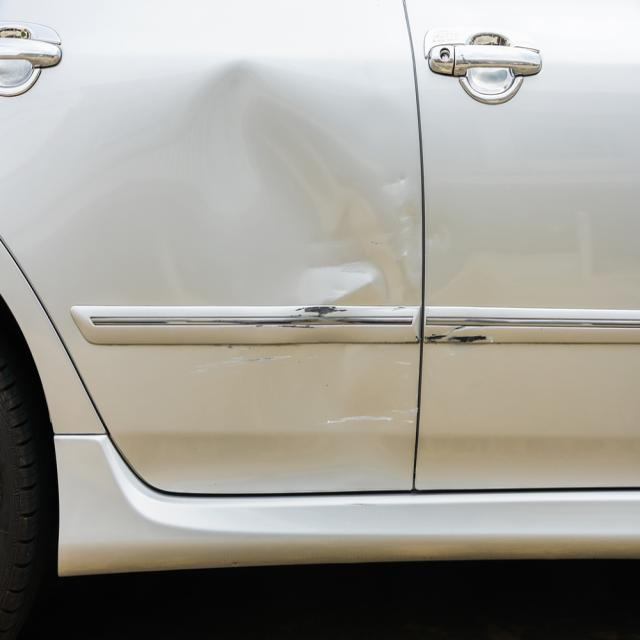dent: (160, 63, 405, 308)
scratch: (182, 302, 350, 374), (320, 403, 417, 428), (429, 319, 497, 348)
